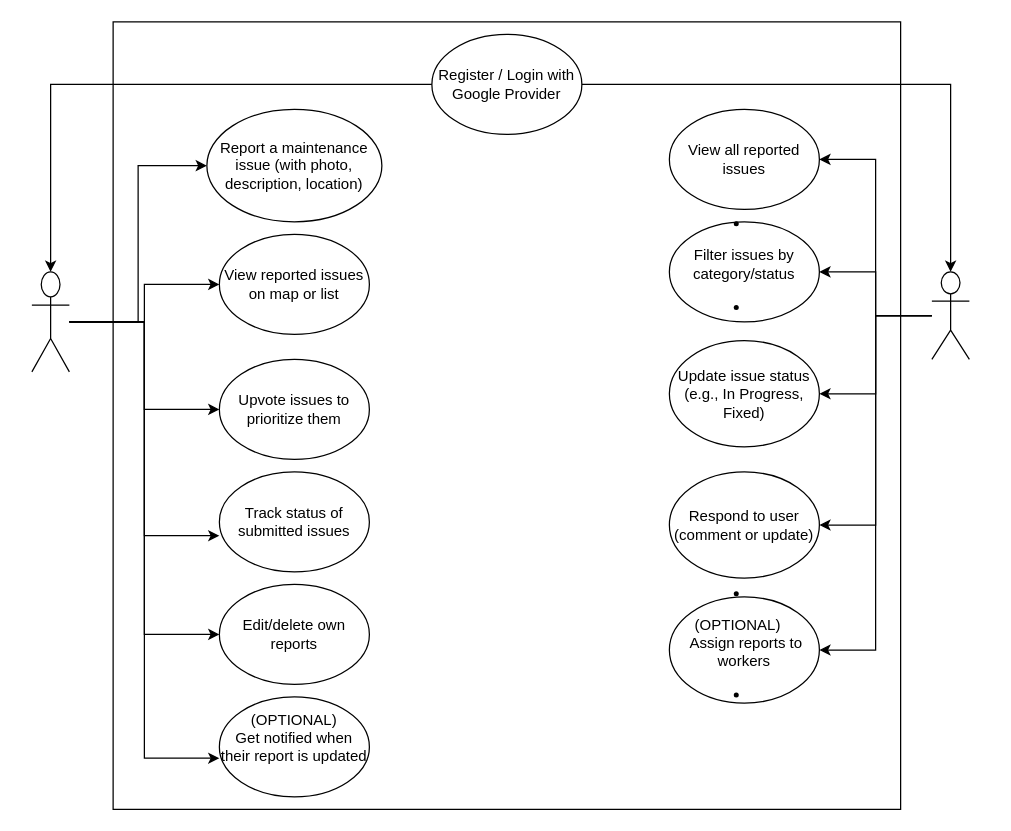
The diagram is 1011 pixels wide and 831 high, and some of its shapes have lost their labels. The shapes that lost their labels are listed below. From the top down, each one's centre as x and y in pixels, then its label:
(50,321): Reporter
(950,315): Admin/ Municipality
